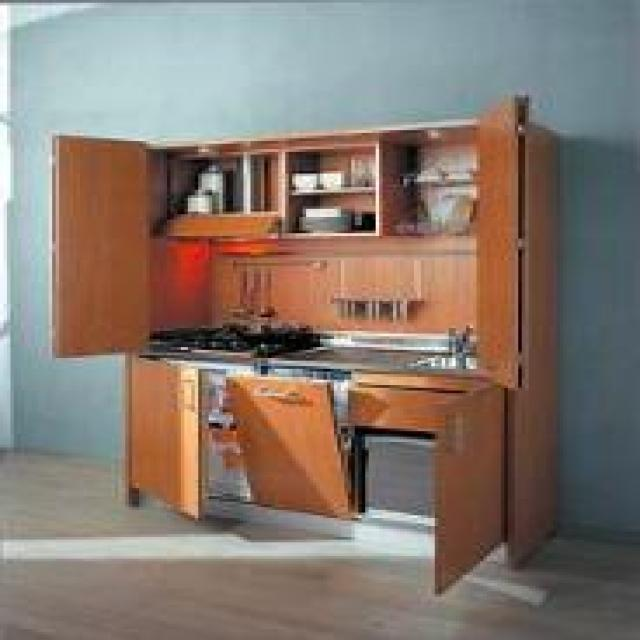dishwasher: (223, 363, 344, 521)
